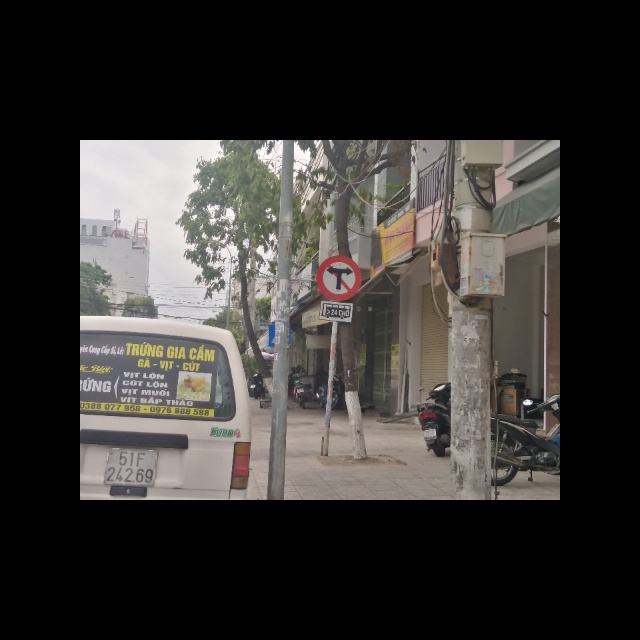Cấm rẽ trái và rẽ phải: (316, 255, 363, 301)
